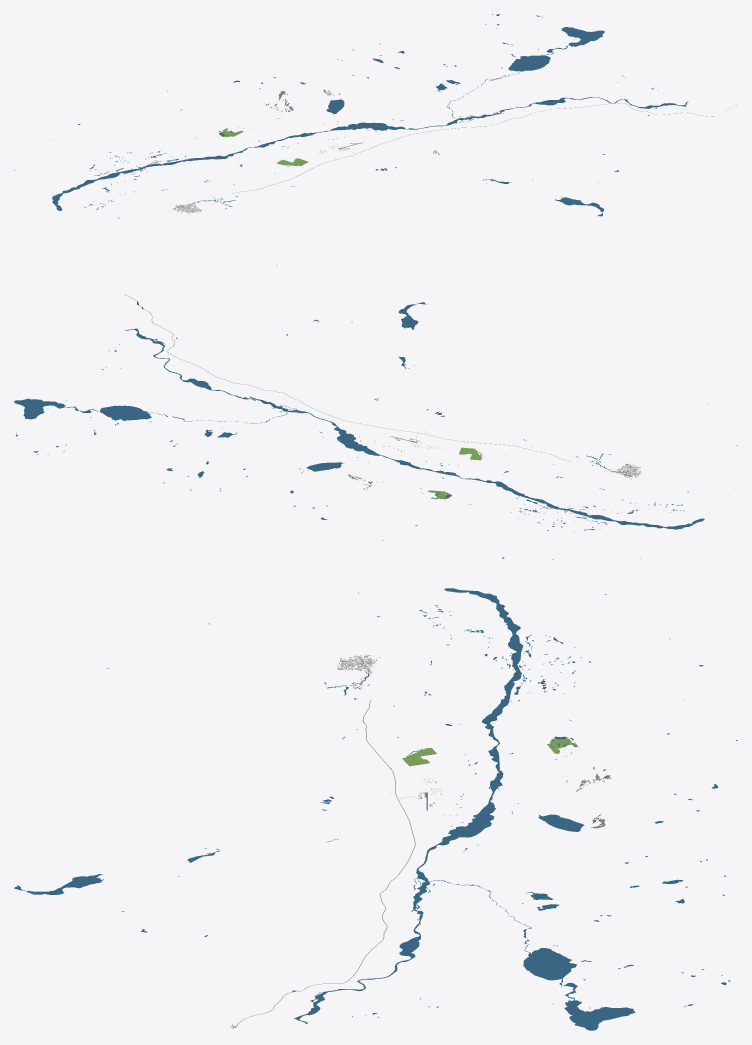
File: land.glb
3 views of the same model, one above another, from view 1: azimuth 30°, elevation 25°; view 2: azimuth 150°, elevation 25°; view 3: azimuth 270°, elevation 25° (orthographic). The views are drawn at different scales.
Parts seen in each view (by area): view 1: decal-ponds; view 2: decal-ponds; view 3: decal-ponds.
Part boxes in pixels (left/top/right/bottom): decal-ponds: left=14, top=14, right=688, bottom=265; decal-ponds: left=14, top=302, right=737, bottom=559; decal-ponds: left=14, top=588, right=737, bottom=1030.
Bounding box in the file's own units: 151856 × 9524 × 102265.
